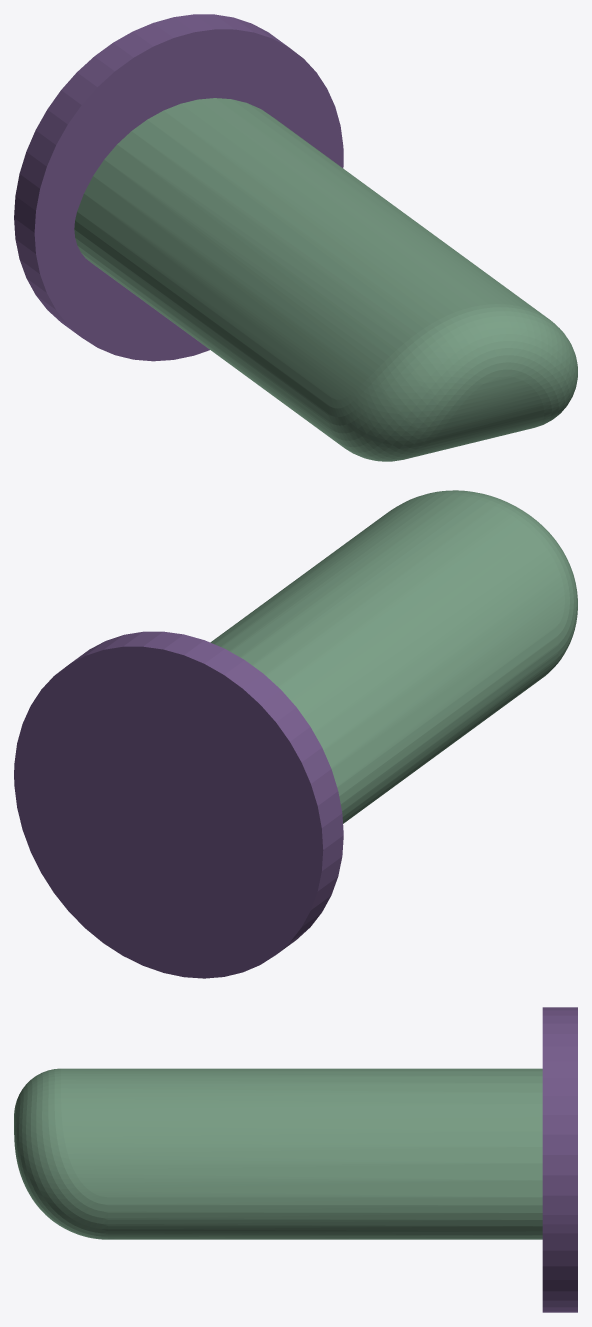
The model's file is longer_finger_tip.obj.
3 views of the same model, one above another, from view 1: azimuth 30°, elevation 25°; view 2: azimuth 150°, elevation 25°; view 3: azimuth 270°, elevation 25° (orthographic). The views are drawn at different scales.
Parts seen in each view (by area): view 1: geometry_0, geometry_1; view 2: geometry_1, geometry_0; view 3: geometry_0, geometry_1.
Boxes of the visible parts, left/top/right/bottom form: geometry_0: left=74, top=98, right=577, bottom=461; geometry_1: left=14, top=14, right=343, bottom=361; geometry_1: left=14, top=631, right=343, bottom=978; geometry_0: left=210, top=490, right=577, bottom=823; geometry_0: left=14, top=1068, right=542, bottom=1239; geometry_1: left=542, top=1007, right=577, bottom=1312.
Size of the model in its own units: 26 by 25.99 by 48.
